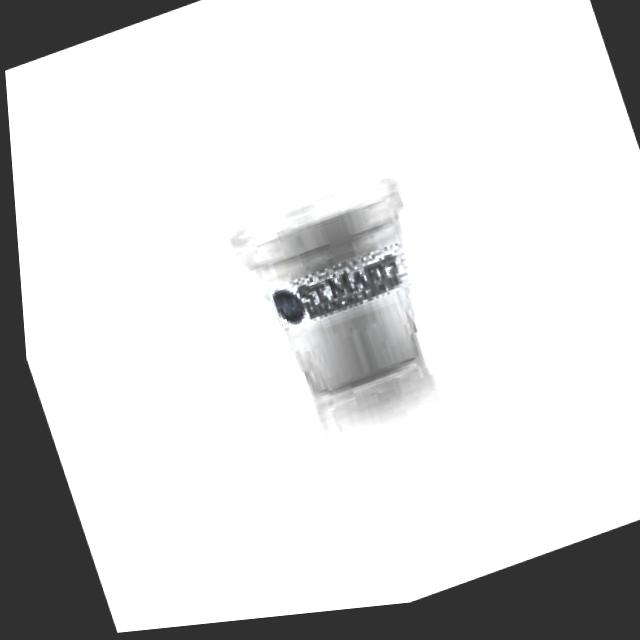Paper: (220, 176, 442, 418)
